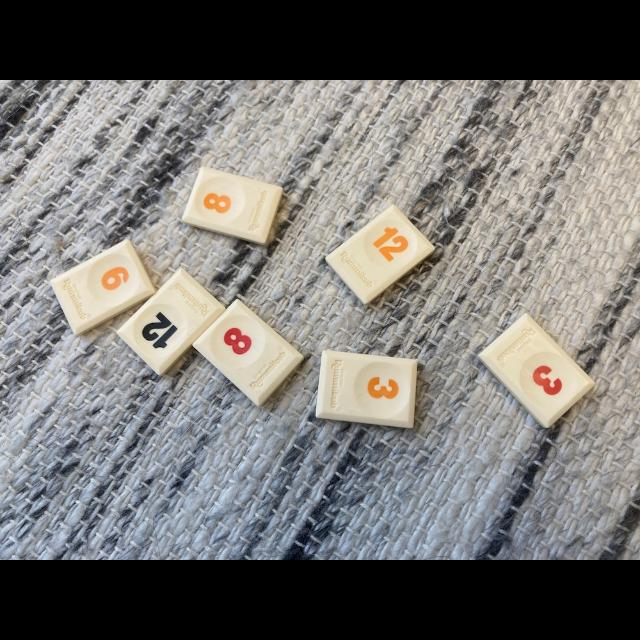black_12: (118, 269, 225, 375)
orange_12: (326, 205, 435, 304)
orange_3: (317, 350, 418, 428)
orange_6: (51, 240, 155, 335)
orange_8: (182, 168, 282, 245)
red_3: (479, 314, 595, 428)
red_8: (194, 300, 302, 406)
